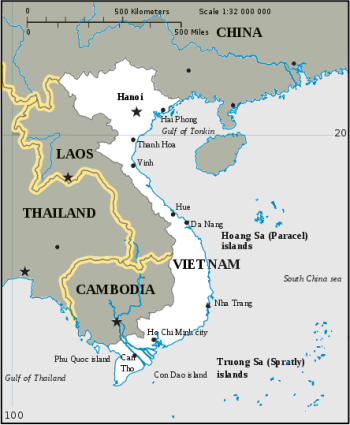Island: (219, 317, 341, 411), (220, 192, 310, 255)
